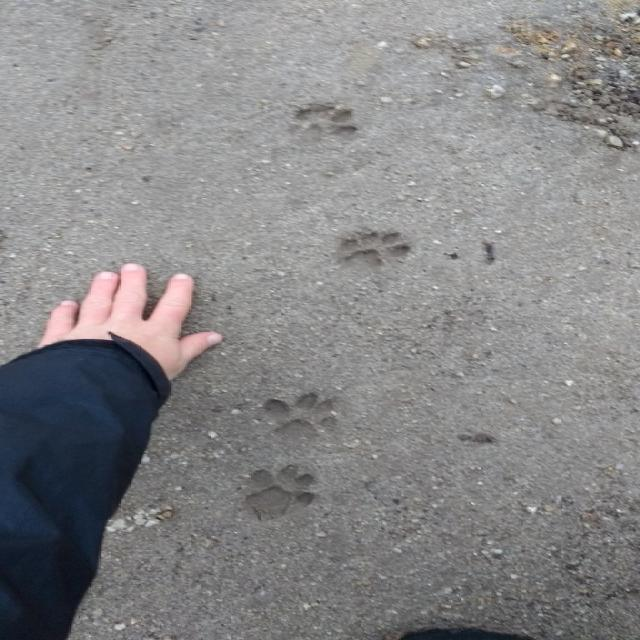felid: (245, 462, 322, 518), (264, 389, 342, 441), (286, 100, 364, 148), (338, 228, 416, 272)
